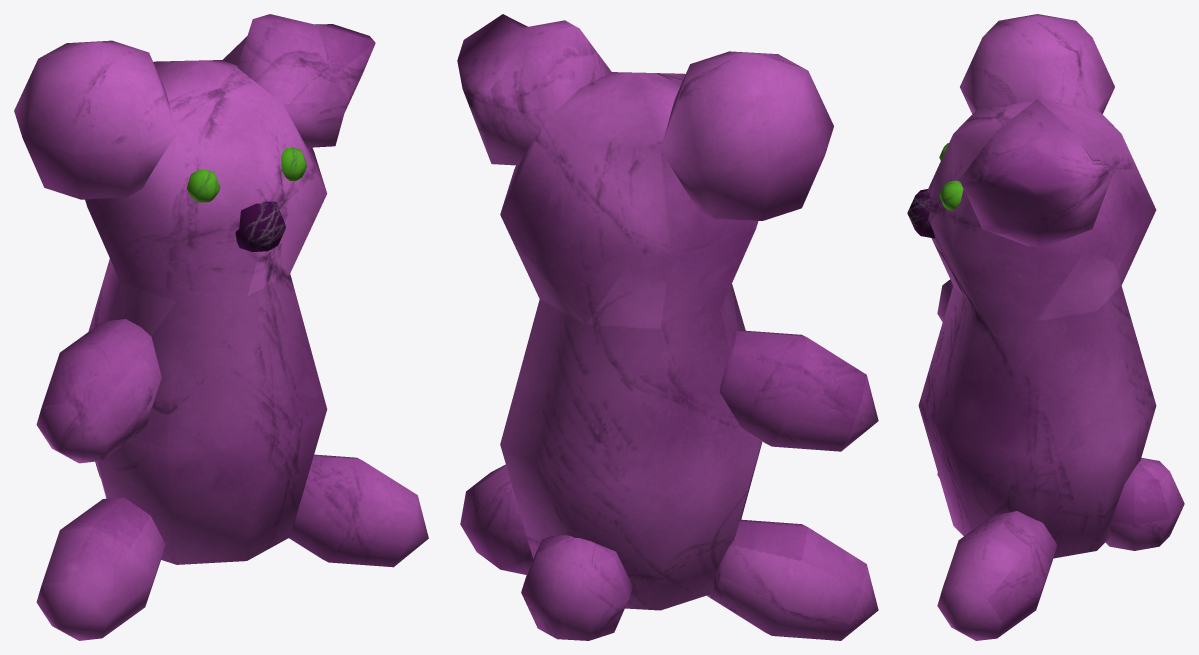
The model's file is Ursinho.fbx.
3 views of the same model, side by side, from view 1: azimuth 30°, elevation 25°; view 2: azimuth 150°, elevation 25°; view 3: azimuth 270°, elevation 25° (orthographic). The views are drawn at different scales.
Parts seen in each view (by area): view 1: Ursinho; view 2: Ursinho; view 3: Ursinho.
Part boxes in pixels (box(x1,y1,x2,y2)): Ursinho: box(14, 14, 428, 640); Ursinho: box(457, 14, 878, 640); Ursinho: box(907, 14, 1184, 640).
Bounding box in the file's own units: 20.92 × 30.17 × 14.89.
